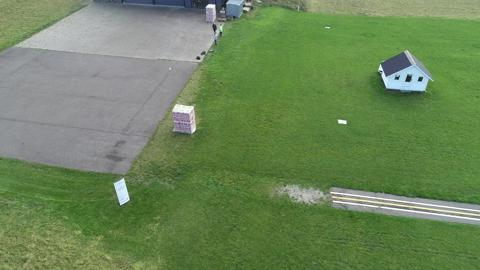RockwoolPallet: (205, 4, 217, 24)
